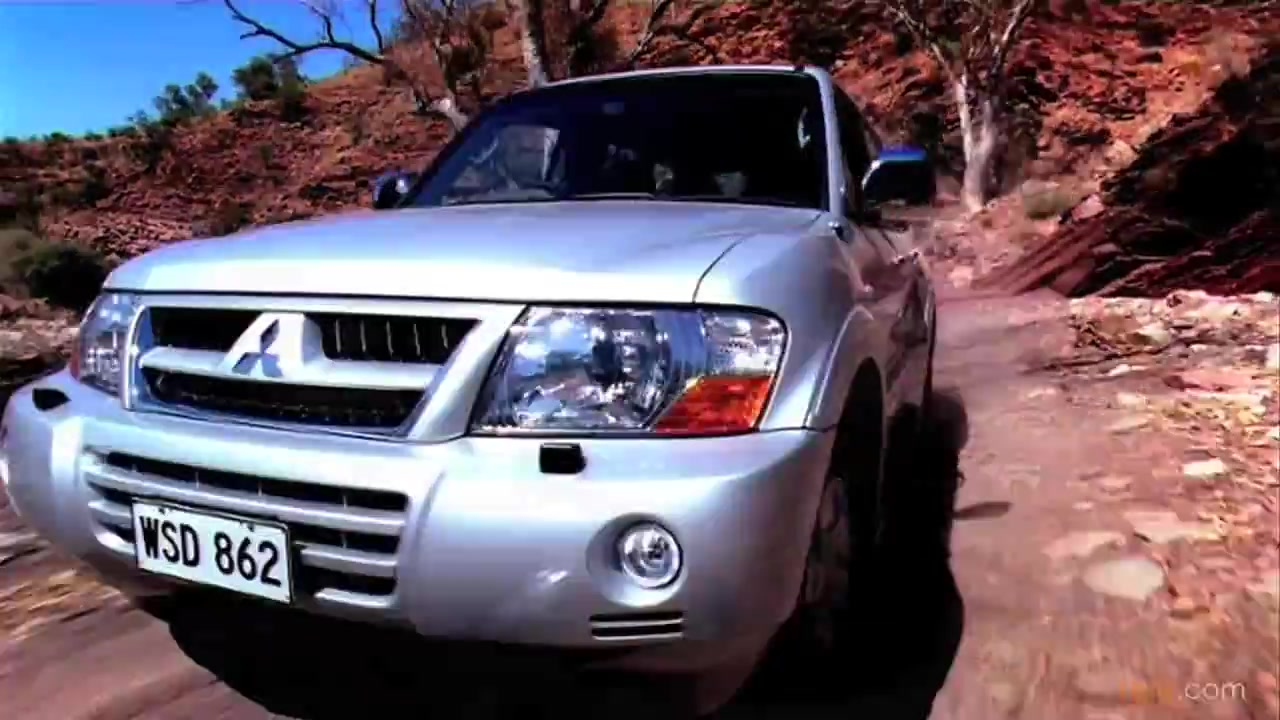car: (1, 66, 939, 720)
